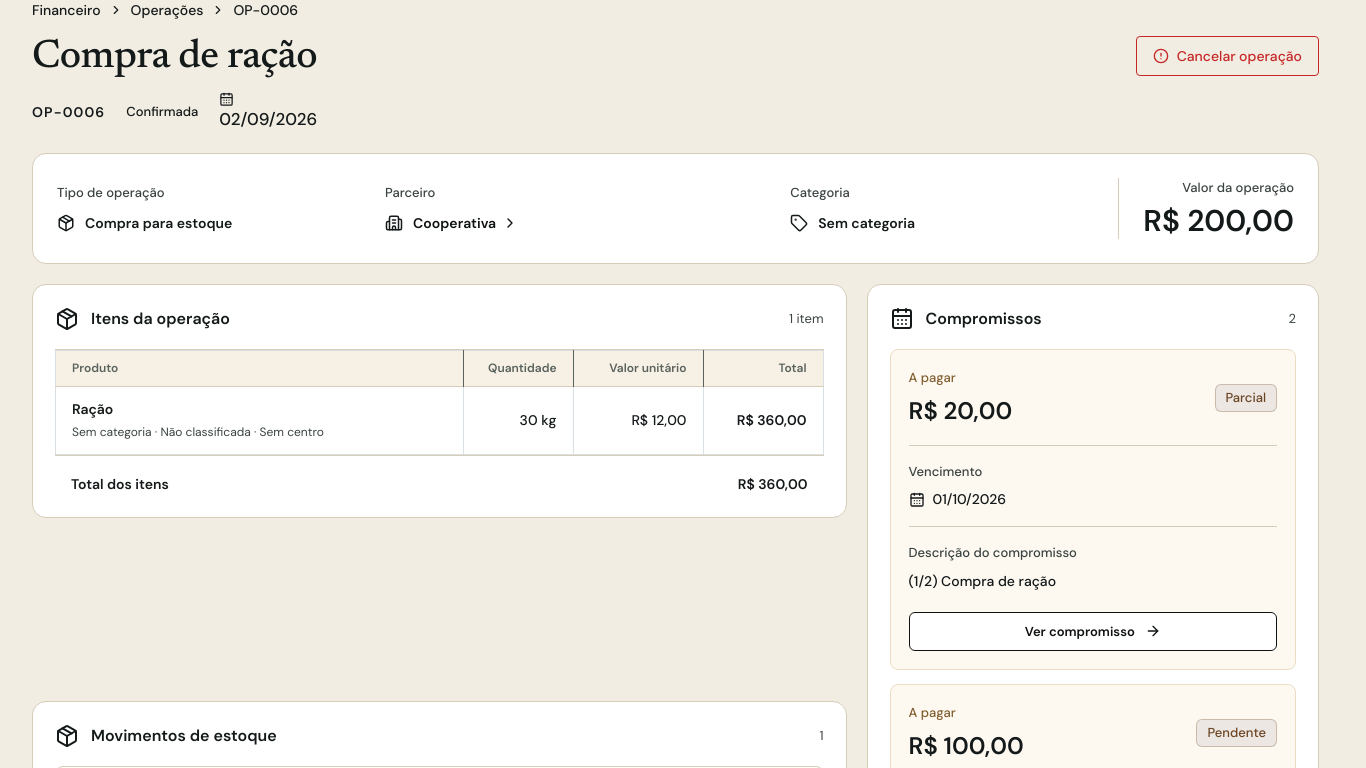
it: OperacaoFinanceiraDetalhe — revisão do cancelamento › lista os movimentos de estoque com produto/quantidade/unidade reais e o impacto líquido por conta
Expected: the heading "Compra de ração" is shown, x1=32 y1=38 x2=317 y2=78
Click the button "Cancelar operação" at (1227, 56), box x1=1136 y1=36 x2=1319 y2=76
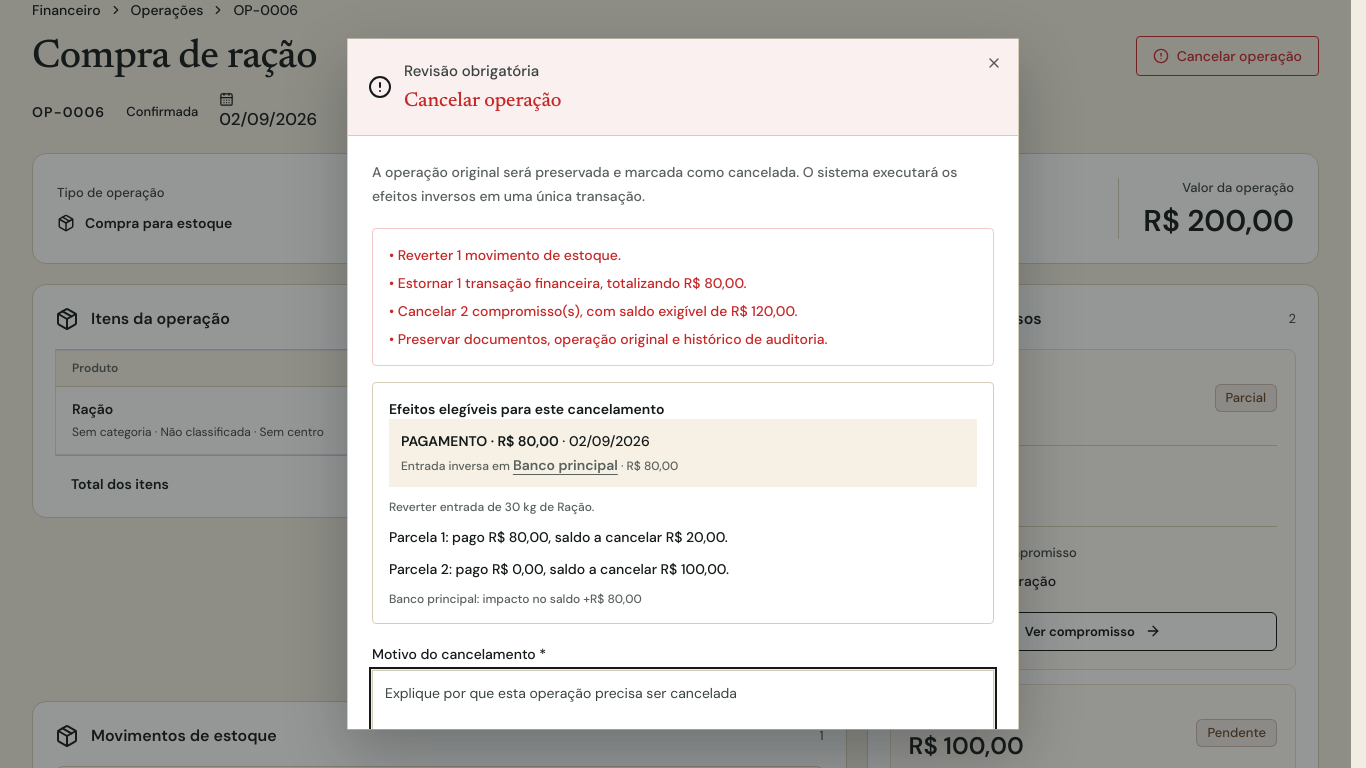
Result: the text "Reverter entrada de 30 kg de Ração." is shown at x1=389 y1=500 x2=594 y2=516
Result: the text "Banco principal: impacto no saldo +R$ 80,00" is shown at x1=389 y1=592 x2=642 y2=608
